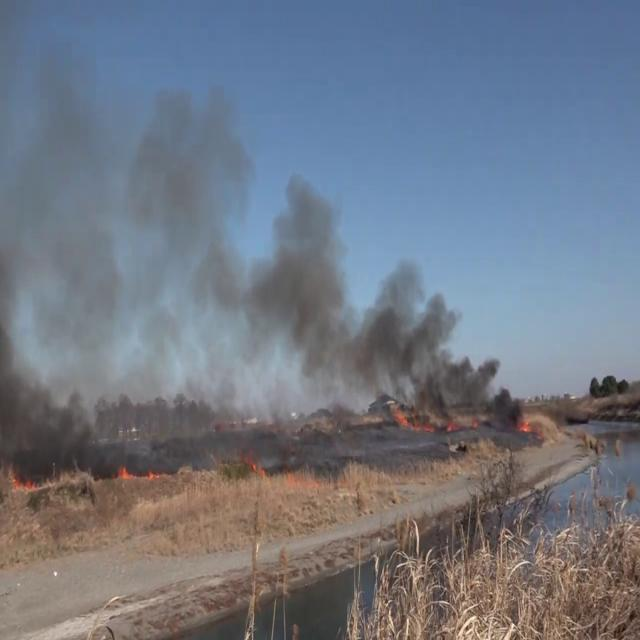Smoke: (0, 54, 264, 480), (233, 171, 515, 433)
